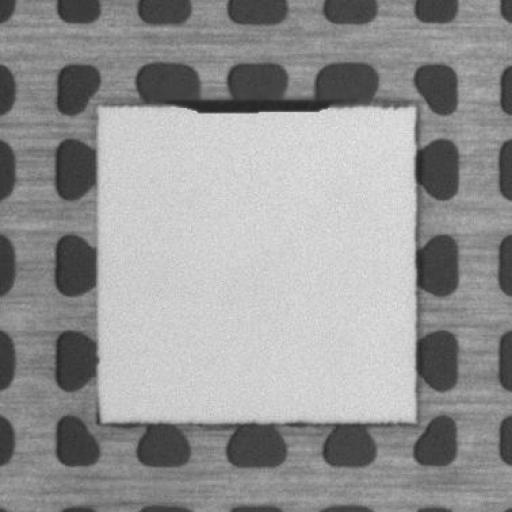DIE_BROKEN: (162, 94, 350, 115)
